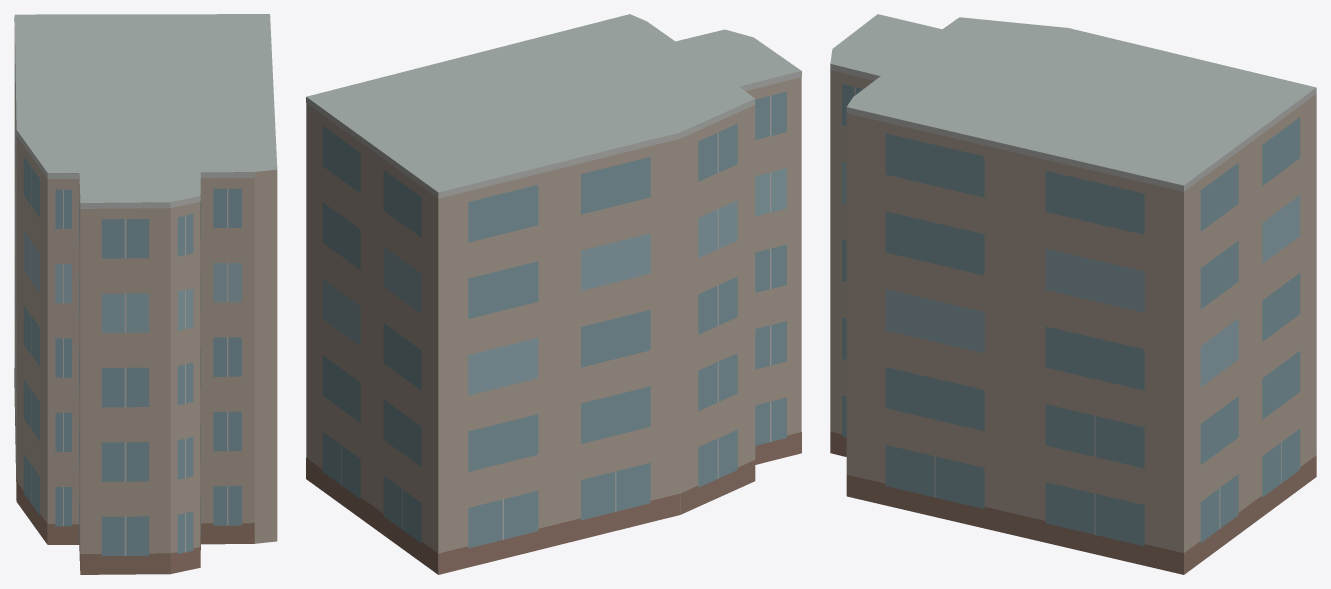
The model's file is survey-upis-32820356.glb.
The picture shows the model from 3 angles, left to right: view 1: azimuth 30°, elevation 25°; view 2: azimuth 150°, elevation 25°; view 3: azimuth 270°, elevation 25°; orthographic projection. The views are drawn at different scales.
Visible parts, largest first — view 1: survey-upis-32820356.tmp; view 2: survey-upis-32820356.tmp; view 3: survey-upis-32820356.tmp.
Part boxes in pixels (left/top/right/bottom): survey-upis-32820356.tmp: left=14, top=14, right=277, bottom=574; survey-upis-32820356.tmp: left=306, top=14, right=801, bottom=574; survey-upis-32820356.tmp: left=830, top=14, right=1316, bottom=574.
Size of the model in its own units: 14.42 by 15.25 by 17.28.
